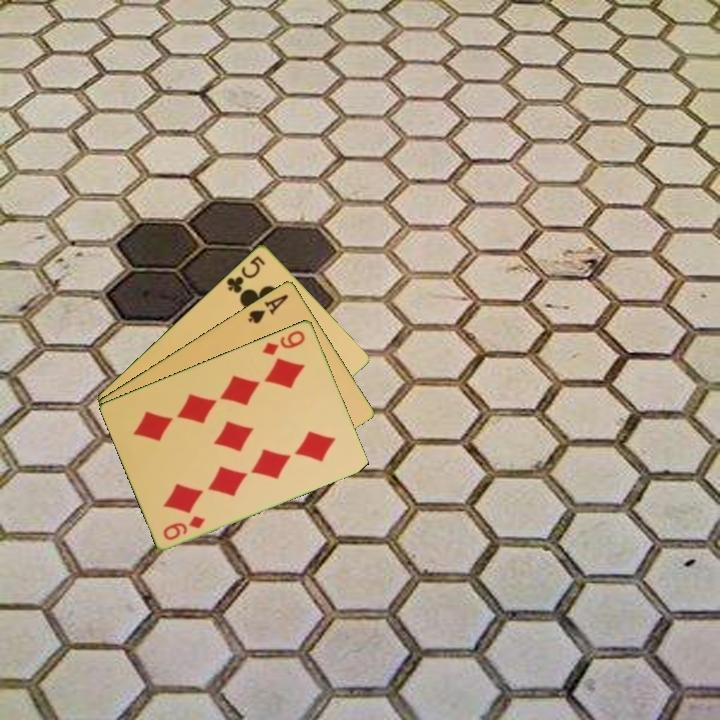5c: (223, 252, 268, 296)
9d: (258, 326, 308, 358), (159, 512, 208, 543)
As: (244, 290, 291, 326)
